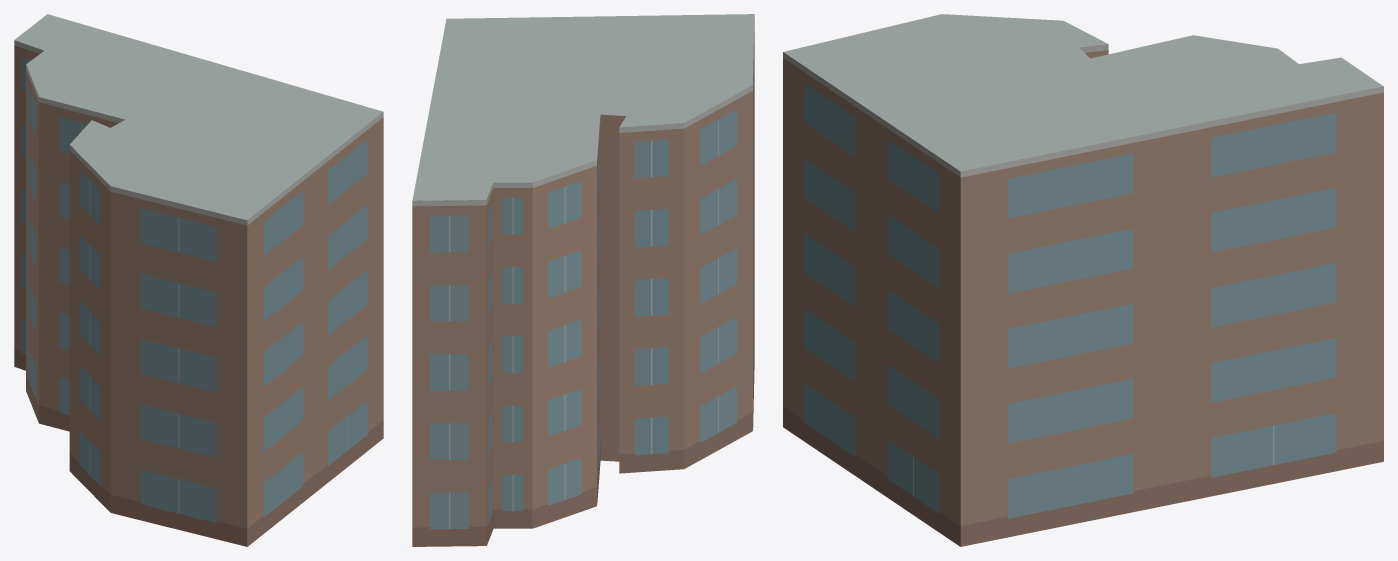
File: survey-upis-33037973.glb
3 views of the same model, side by side, from view 1: azimuth 30°, elevation 25°; view 2: azimuth 150°, elevation 25°; view 3: azimuth 270°, elevation 25° (orthographic). The views are drawn at different scales.
Parts seen in each view (by area): view 1: survey-upis-33037973.tmp; view 2: survey-upis-33037973.tmp; view 3: survey-upis-33037973.tmp.
Part boxes in pixels (bbox=[...]): survey-upis-33037973.tmp: bbox=[14, 14, 383, 546]; survey-upis-33037973.tmp: bbox=[412, 14, 754, 546]; survey-upis-33037973.tmp: bbox=[783, 14, 1383, 546].
Size of the model in its own units: 13.7 by 15.2 by 22.06.
